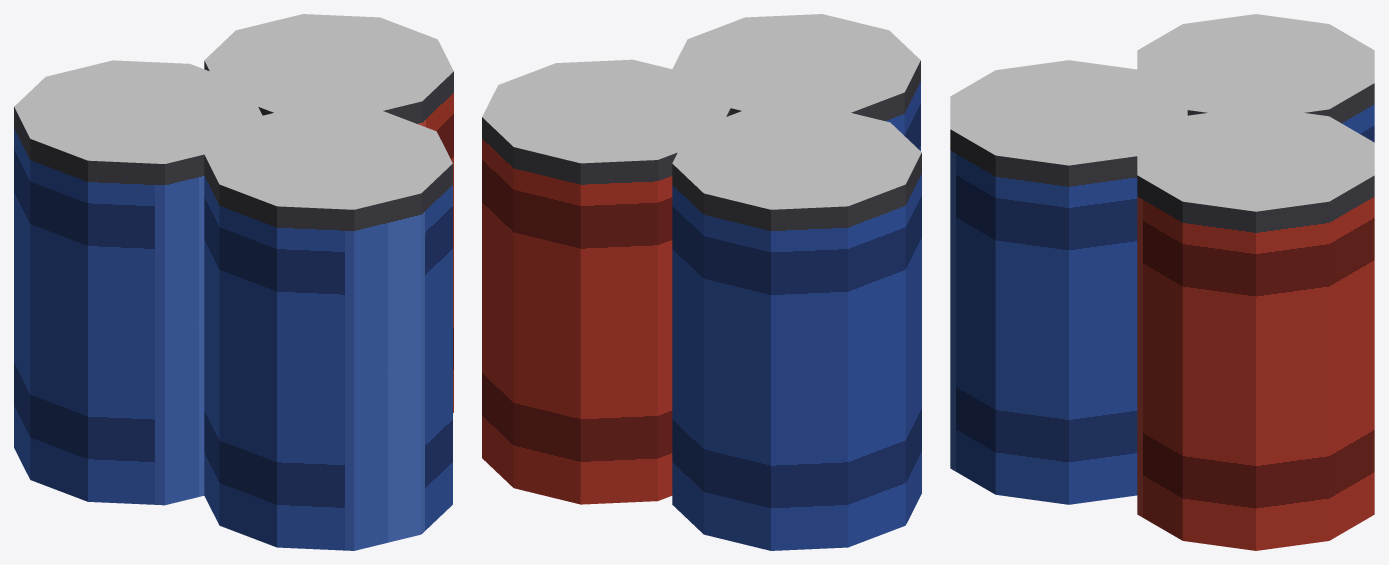
Rendered from barrels.obj.
The picture shows the model from 3 angles, left to right: view 1: azimuth 30°, elevation 25°; view 2: azimuth 150°, elevation 25°; view 3: azimuth 270°, elevation 25°; orthographic projection.
Size of the model in its own units: 15 by 12 by 13.61.
